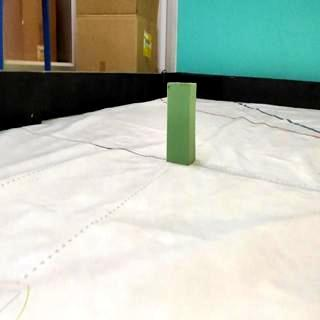greenbox: (166, 82, 196, 166)
